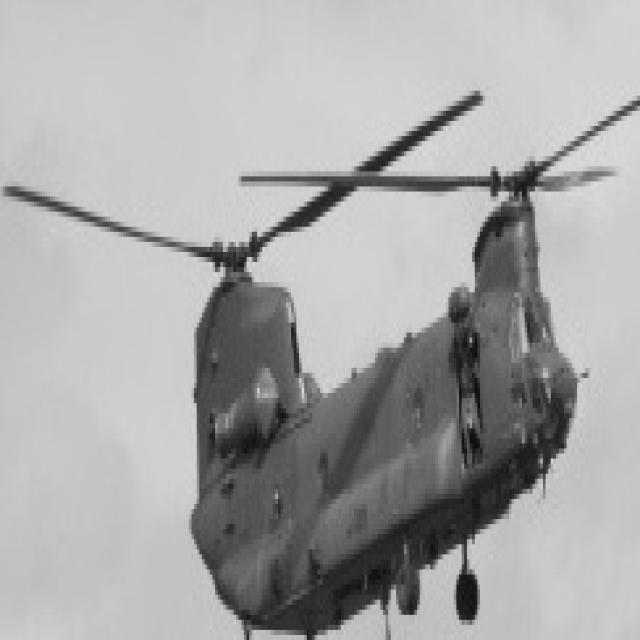Helicopter: (4, 91, 640, 633)
